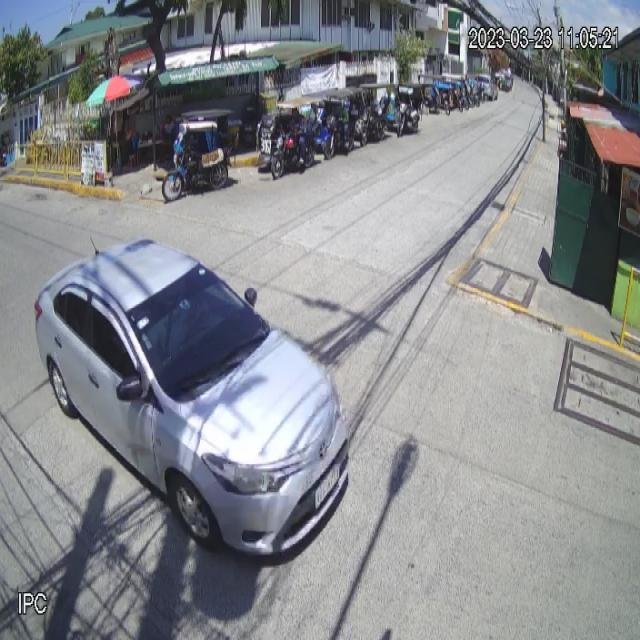Car: (36, 234, 349, 570)
